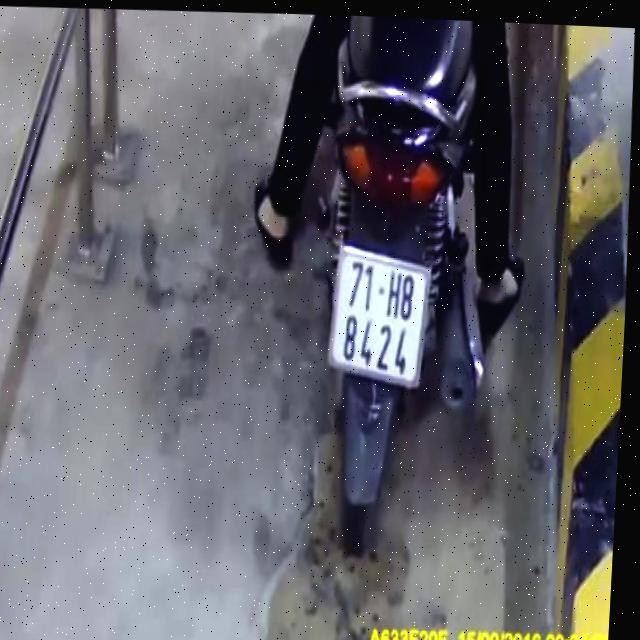motorcycle: (297, 14, 512, 567)
plate: (325, 240, 432, 391)
